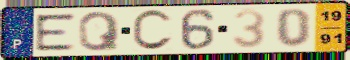0: (274, 7, 313, 49)
3: (231, 6, 268, 51)
6: (179, 7, 217, 51)
C: (130, 8, 175, 53)
E: (33, 12, 77, 53)
Q: (77, 10, 123, 53)
